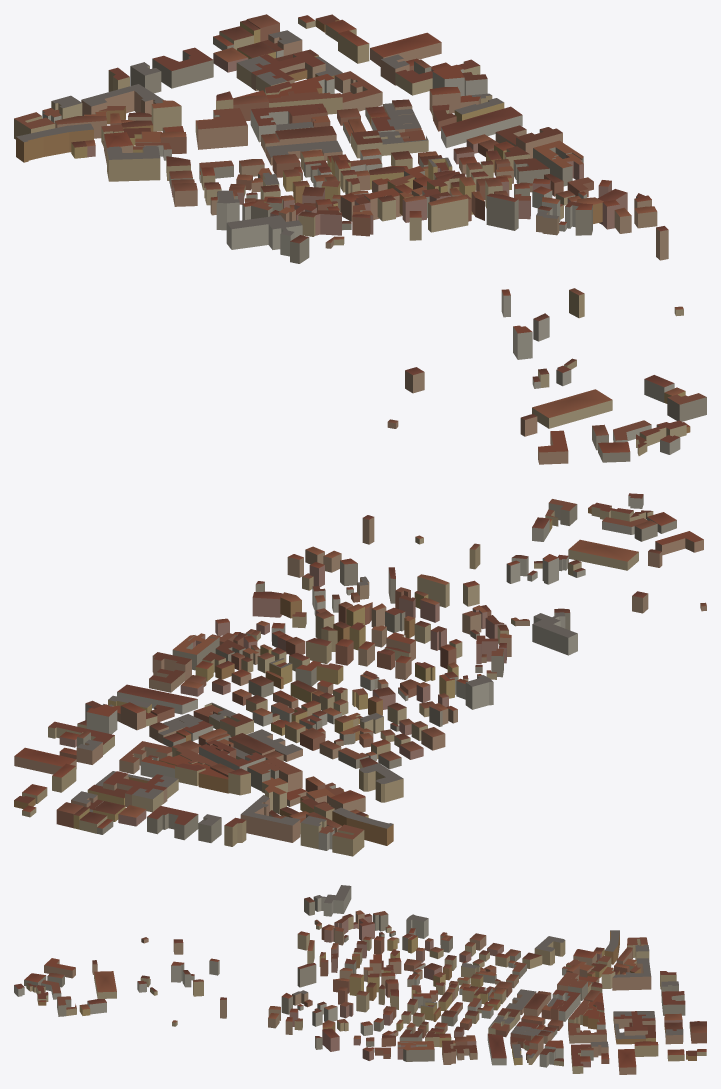
File: SM_Fondale_Citta_Colle_03.fbx
3 renders of one model, top to bottom at view 1: azimuth 30°, elevation 25°; view 2: azimuth 150°, elevation 25°; view 3: azimuth 270°, elevation 25°, orthographic. The views are drawn at different scales.
Parts seen in each view (by area): view 1: SM_Fondale_Citta_Colle_03; view 2: SM_Fondale_Citta_Colle_03; view 3: SM_Fondale_Citta_Colle_03.
Boxes of the visible parts, x1,y1,x2,y2 form: SM_Fondale_Citta_Colle_03: [14, 14, 706, 464]; SM_Fondale_Citta_Colle_03: [14, 493, 706, 856]; SM_Fondale_Citta_Colle_03: [14, 885, 706, 1074].
Size of the model in its own units: 42155 by 92411 by 8795.
